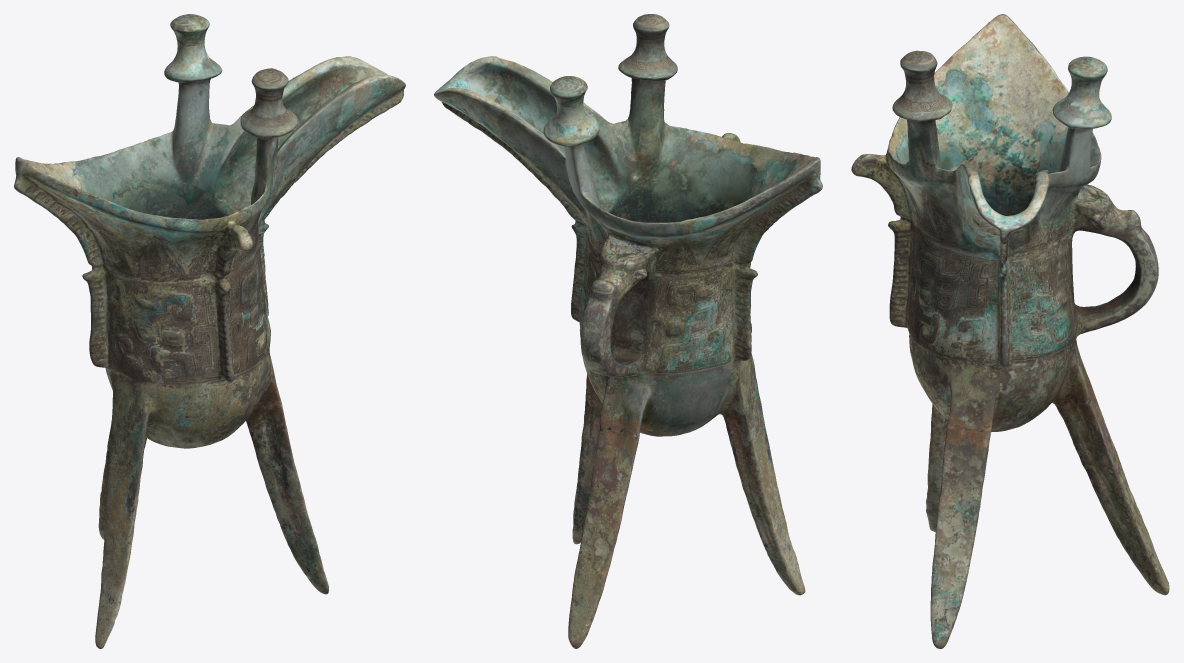
3 views of the same model, side by side, from view 1: azimuth 30°, elevation 25°; view 2: azimuth 150°, elevation 25°; view 3: azimuth 270°, elevation 25° (orthographic). The views are drawn at different scales.
Visible parts, largest first — view 1: Ob8; view 2: Ob8; view 3: Ob8.
Part boxes in pixels (bbox=[...]): Ob8: bbox=[14, 14, 405, 648]; Ob8: bbox=[434, 14, 822, 648]; Ob8: bbox=[851, 14, 1169, 648].
Size of the model in its own units: 1.82 by 2.43 by 1.24.
Materials: 1 (1 with a texture image).
